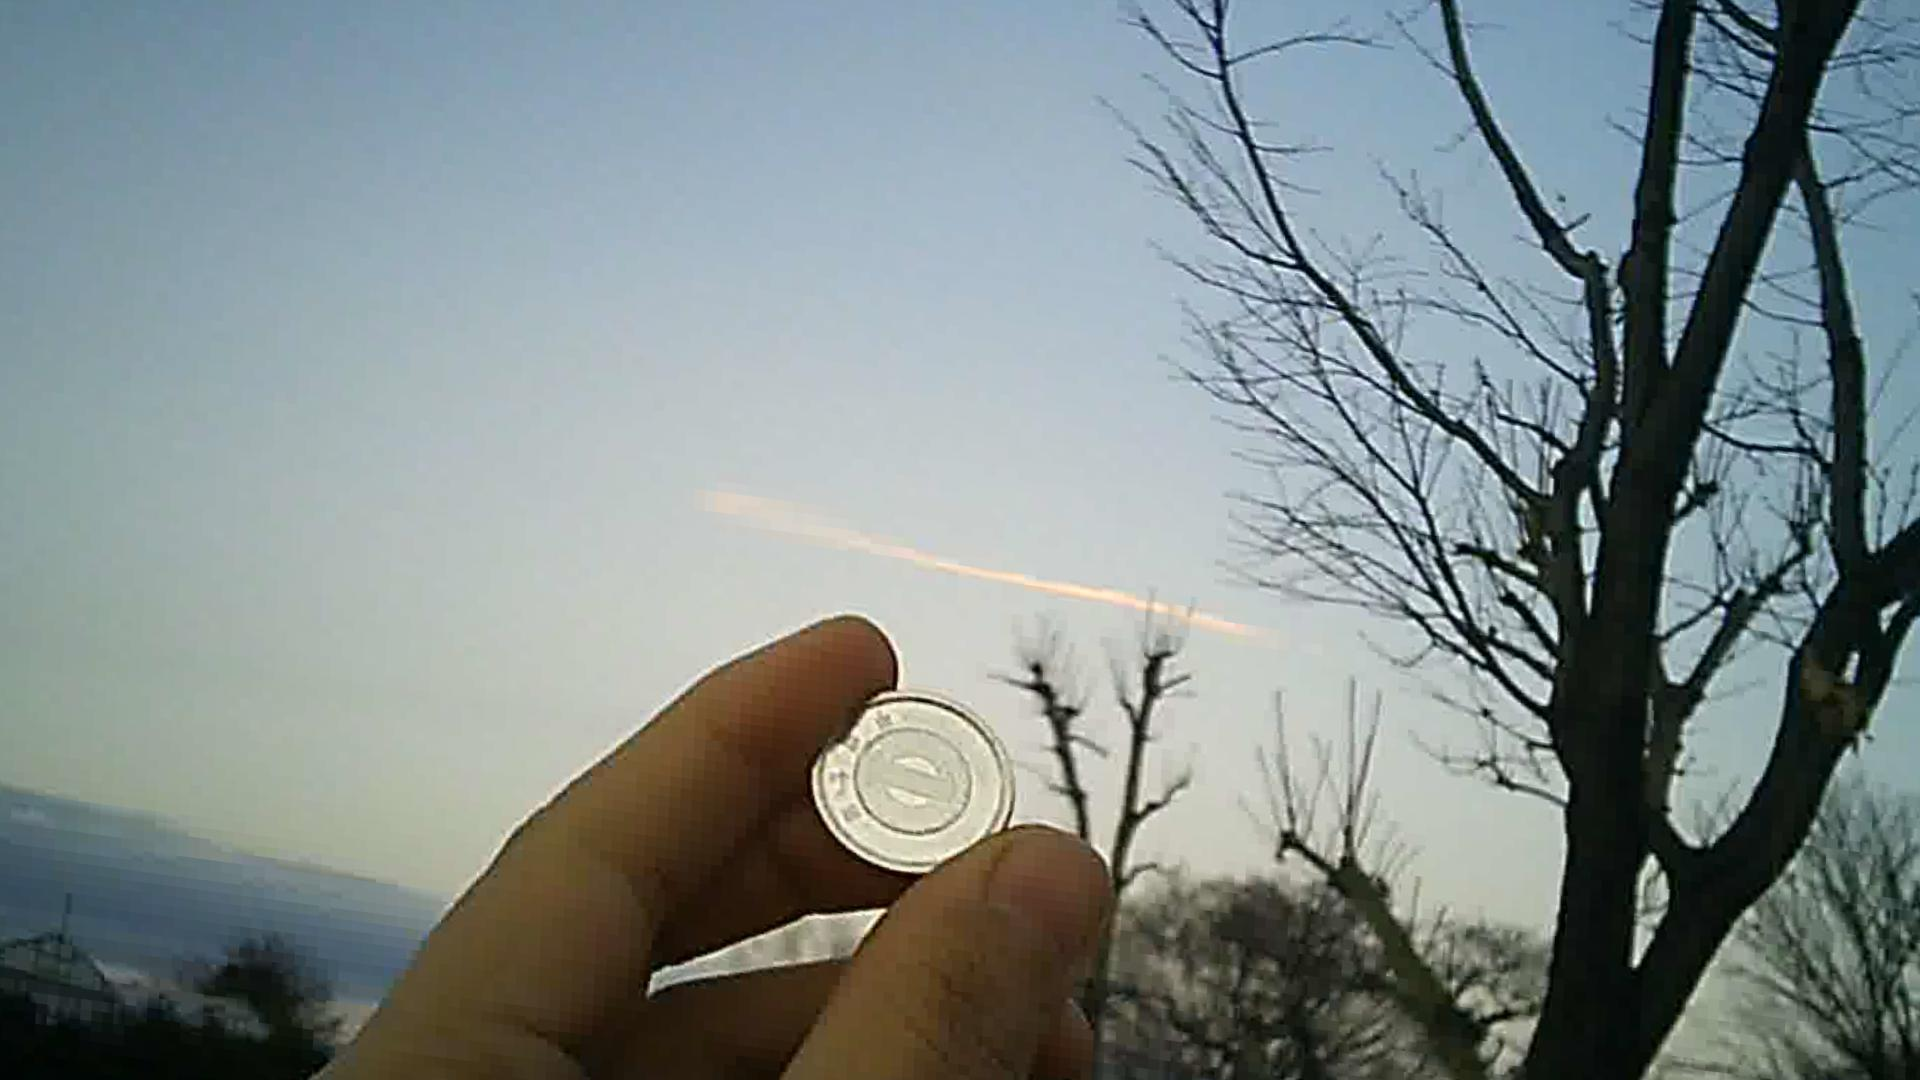1 Yen: (804, 679, 1015, 861)
